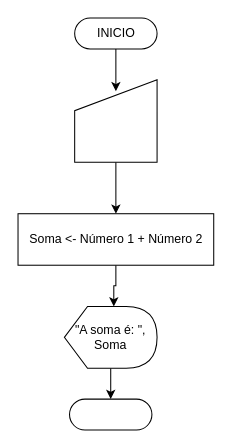
Image size: 232x448. Some labels were removed from this diagram. The centre of each missing label's shape, as x and y in pixels:
FIM: [110,414]
Número 1, Número 2: [115,120]
